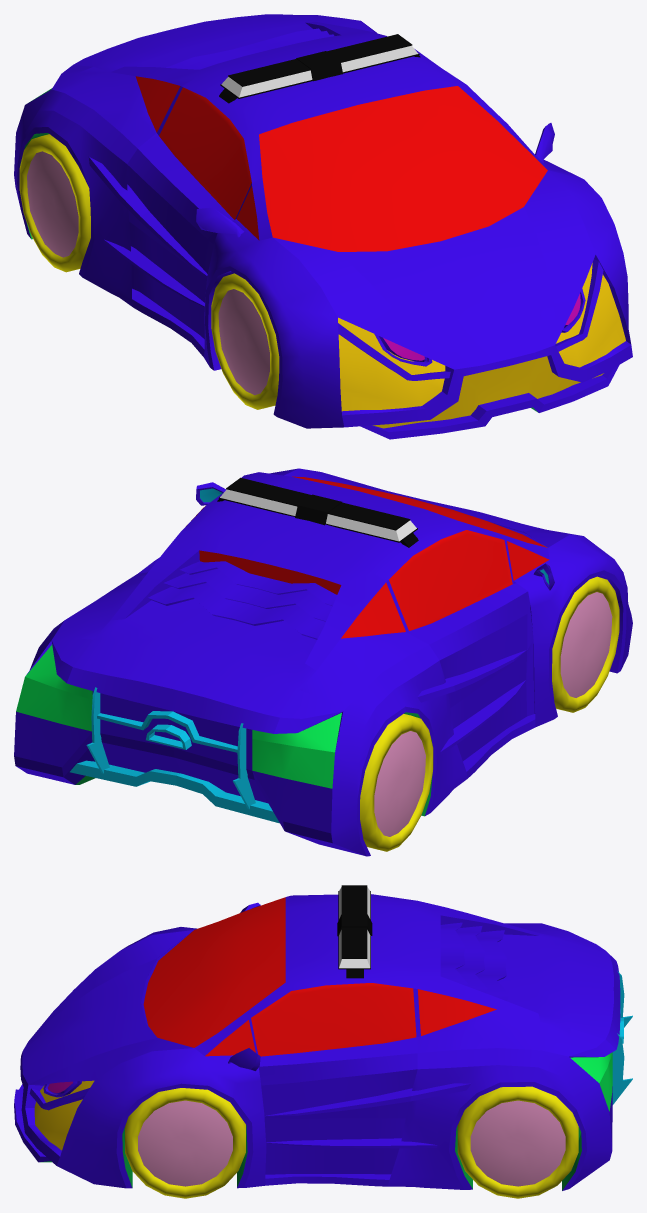
The model's file is 02_TierraZesterPolice_ColorCoded.fbx.
3 views of the same model, one above another, from view 1: azimuth 30°, elevation 25°; view 2: azimuth 150°, elevation 25°; view 3: azimuth 270°, elevation 25° (orthographic). The views are drawn at different scales.
Parts seen in each view (by area): view 1: Body, tireBackR, tireFrontR, police_light; view 2: Body, tireBackR, tireFrontR, police_light; view 3: Body, tireBackL, tireFrontL, police_light.
Part boxes in pixels (x1,y1,x2,y2): Body: (14, 14, 632, 439); tireBackR: (19, 134, 90, 272); tireFrontR: (211, 273, 279, 409); police_light: (219, 34, 420, 103); Body: (14, 468, 632, 856); tireBackR: (360, 714, 433, 851); tireFrontR: (552, 576, 619, 712); police_light: (217, 477, 418, 547); Body: (14, 894, 632, 1190); tireBackL: (457, 1086, 578, 1198); tireFrontL: (125, 1088, 245, 1198); police_light: (337, 885, 372, 978).
Bounding box in the file's own units: 67.41 × 115 × 41.99.
